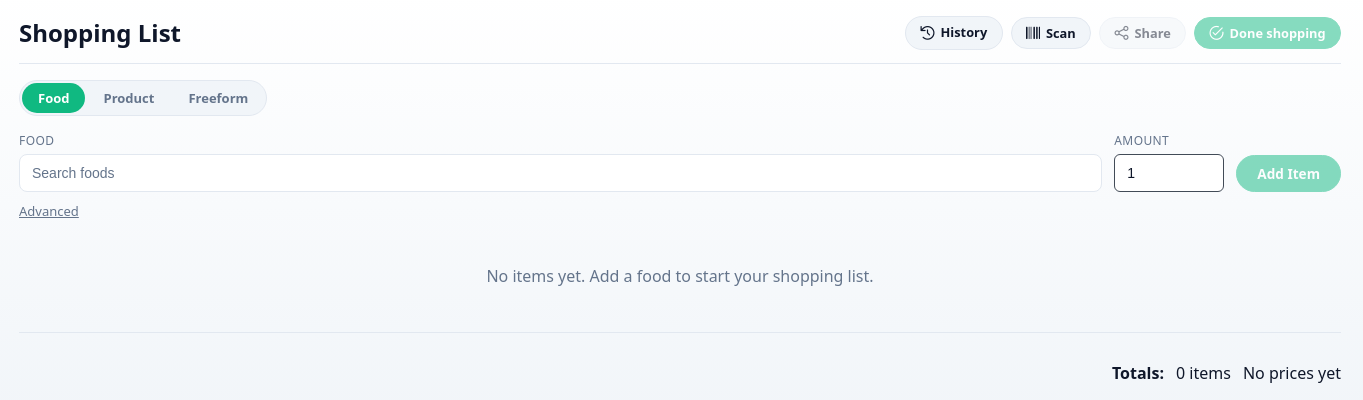
ShoppingListView › adds a freeform line with no unit via the Freeform tab
The width and height of the screenshot is (1363, 400).
Click the tab "Freeform": (218, 98) [172,83,264,113]
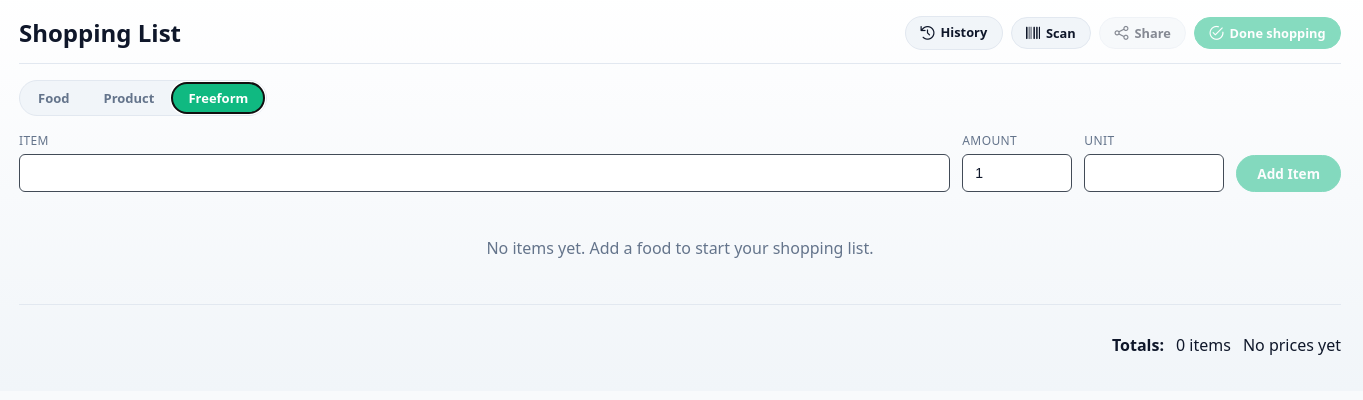
In the field named "Shopping list item name": (485, 173) [19,154,950,192], type "Trash bags"
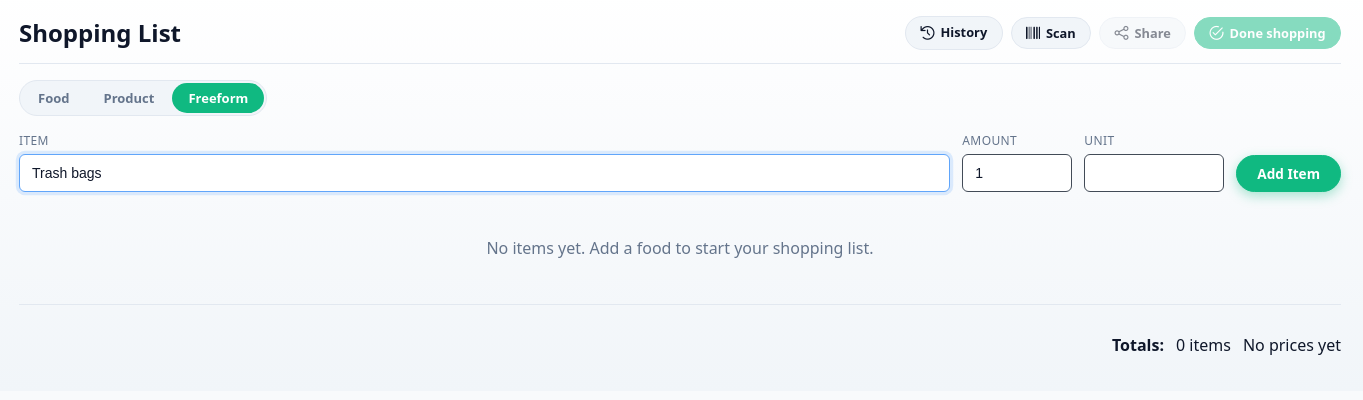
Click the button "Add Item": (1289, 174) [1236,155,1341,192]
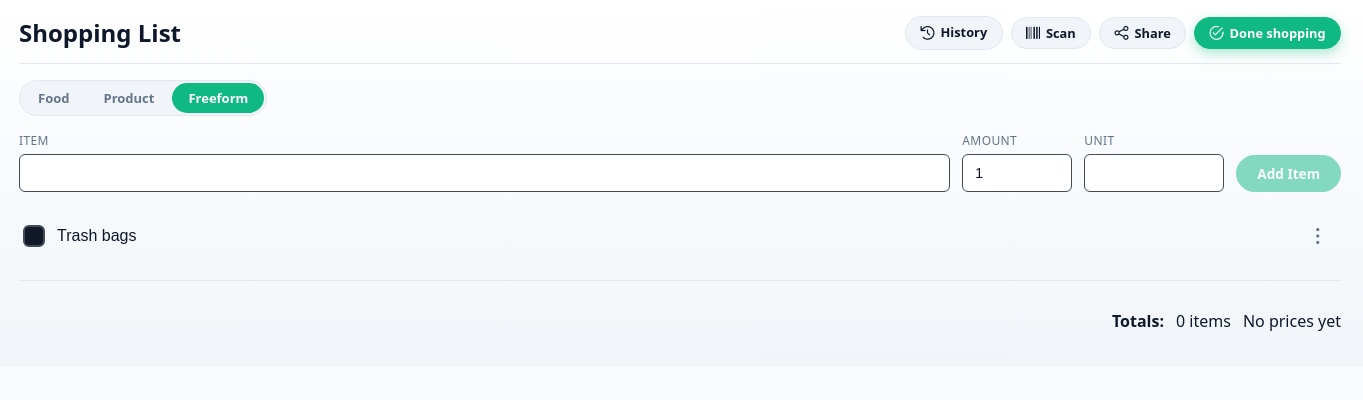
Expected: the text "Trash bags" is shown, [57,227,136,244]
